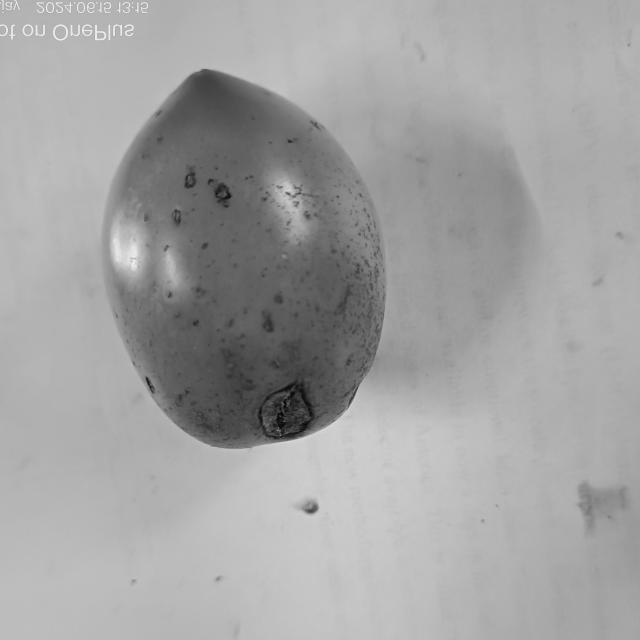Bacterial_Spot: (256, 384, 316, 439), (209, 180, 233, 208), (180, 170, 200, 198)
